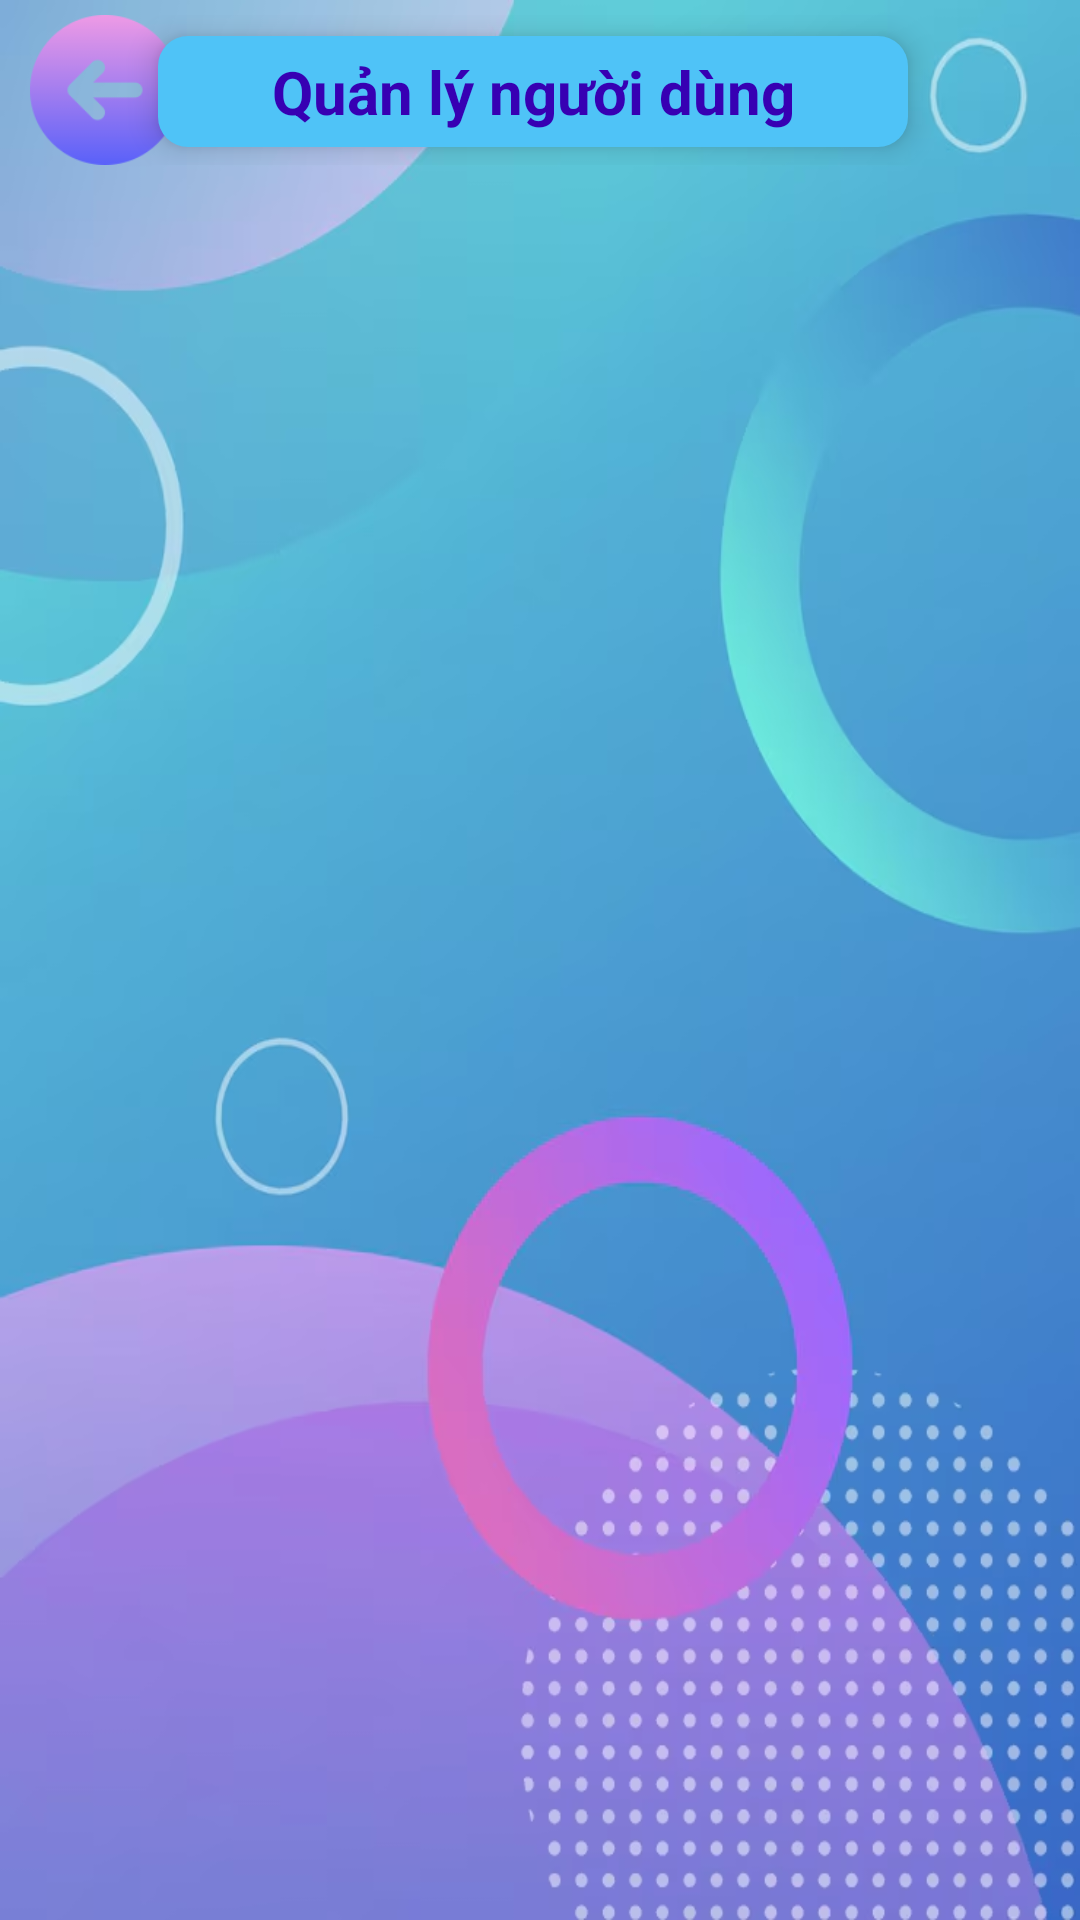

Where to tap for icons on this 1080w x 1920h app screen, as (x,y):
back: (105,90)
